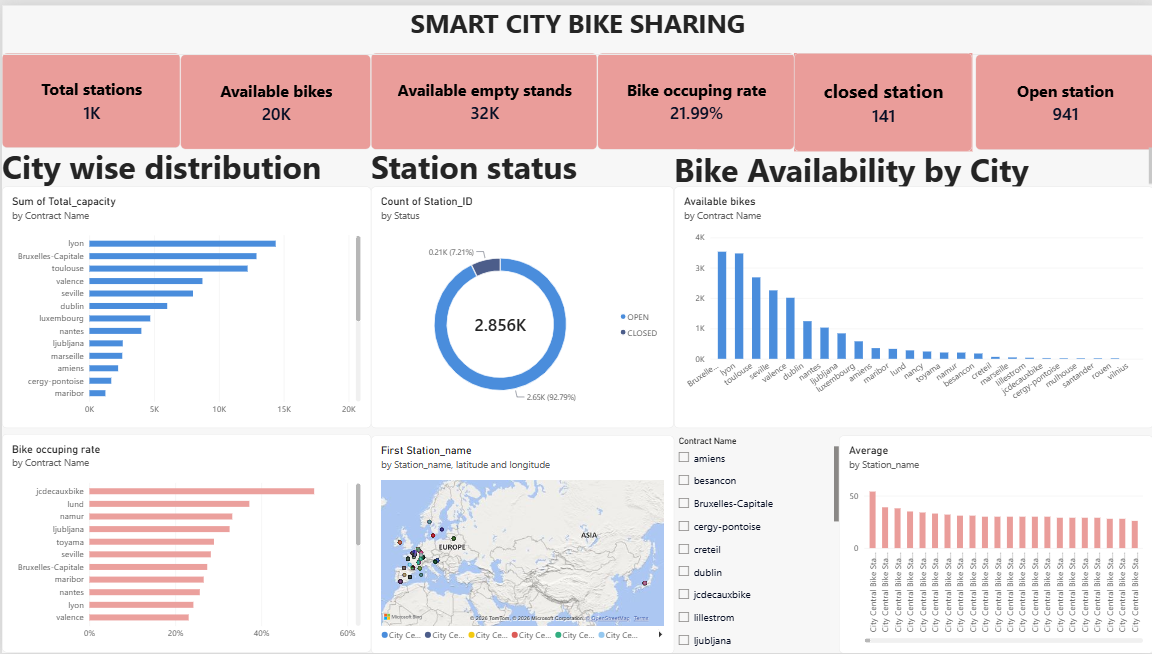

The dashboard page shown, as its layout file describes it:
{"tool":"powerbi","page":{"name":"Page 1","canvas":[1920,1080],"ordinal":0},"visuals":[{"type":"cardVisual","fields":{"Data":["measure.Total stations"]},"box":[0,79.4,297.6,158.7],"z":0},{"type":"cardVisual","fields":{"Data":["measure.Available bikes"]},"box":[297.6,82.2,317.5,158.7],"z":1},{"type":"cardVisual","fields":{"Data":["measure.Available empty stands"]},"box":[615.1,79.4,377,161.6],"z":2},{"type":"cardVisual","fields":{"Data":["measure.Bike occuping rate"]},"box":[992.1,79.4,328.8,161.6],"z":3},{"type":"textbox","box":[1322,0,306,162],"z":4},{"type":"textbox","box":[0,0,1919.1,82.2],"z":5},{"type":"cardVisual","fields":{"Data":["measure.closed station"]},"box":[1321,79.4,297.6,164.4],"z":6},{"type":"cardVisual","fields":{"Data":["measure.Open station"]},"box":[1621.4,82.2,298,159],"z":7},{"type":"barChart","fields":{"Category":["Bike_raw.Contract Name"],"Y":["Sum(Bike_raw.Total_capacity)"]},"box":[0,303.3,615.1,402.5],"z":8},{"type":"textbox","box":[0,523.5,298,159],"z":9},{"type":"textbox","box":[0,232.4,615.1,70.9],"z":10},{"type":"textbox","box":[615.1,232.4,541.4,70.9],"z":11},{"type":"donutChart","fields":{"Category":["Bike_raw.Status"],"Y":["CountNonNull(Bike_raw.Station_ID)"]},"box":[615.1,303.3,504.6,402.5],"z":12},{"type":"textbox","box":[1119.7,238.1,799.4,65.2],"z":13},{"type":"columnChart","fields":{"Category":["Bike_raw.Contract Name"],"Y":["measure.Available bikes"]},"box":[1119.7,303.3,799.4,402.5],"z":14},{"type":"clusteredBarChart","fields":{"Category":["Contract name.Contract Name"],"Y":["measure.Bike occuping rate"]},"box":[0,716,615,364],"z":15},{"type":"map","fields":{"Series":["Bike_raw.Station_name"],"X":["Bike_raw.longitude"],"Y":["Bike_raw.latitude"]},"box":[615.1,717.2,505,364],"z":16},{"type":"slicer","fields":{"Values":["Contract name.Contract Name"]},"box":[1119.7,717.2,275,362.8],"z":17},{"type":"lineStackedColumnComboChart","fields":{"Category":["Bike_station.Station_name"],"Y":["measure.Average"]},"box":[1395,717,524,363],"z":18}]}

Visuals, with their boxes in screenshot pixels (x1, y1, x2, y2), scaled from the page's 1920x1080 canvas onto the 1152x654 screenshot:
cardVisual - measure.Total stations: select_region(0, 48, 179, 144)
cardVisual - measure.Available bikes: select_region(179, 50, 369, 146)
cardVisual - measure.Available empty stands: select_region(369, 48, 595, 146)
cardVisual - measure.Bike occuping rate: select_region(595, 48, 793, 146)
textbox: select_region(793, 0, 977, 98)
textbox: select_region(0, 0, 1151, 50)
cardVisual - measure.closed station: select_region(793, 48, 971, 148)
cardVisual - measure.Open station: select_region(973, 50, 1151, 146)
barChart - Bike_raw.Contract Name x Sum(Bike_raw.Total_capacity): select_region(0, 184, 369, 427)
textbox: select_region(0, 317, 179, 413)
textbox: select_region(0, 141, 369, 184)
textbox: select_region(369, 141, 694, 184)
donutChart - Bike_raw.Status x CountNonNull(Bike_raw.Station_ID): select_region(369, 184, 672, 427)
textbox: select_region(672, 144, 1151, 184)
columnChart - Bike_raw.Contract Name x measure.Available bikes: select_region(672, 184, 1151, 427)
clusteredBarChart - Contract name.Contract Name x measure.Bike occuping rate: select_region(0, 434, 369, 653)
map - Bike_raw.Station_name x Bike_raw.longitude: select_region(369, 434, 672, 653)
slicer - Contract name.Contract Name: select_region(672, 434, 837, 653)
lineStackedColumnComboChart - Bike_station.Station_name x measure.Average: select_region(837, 434, 1151, 653)
